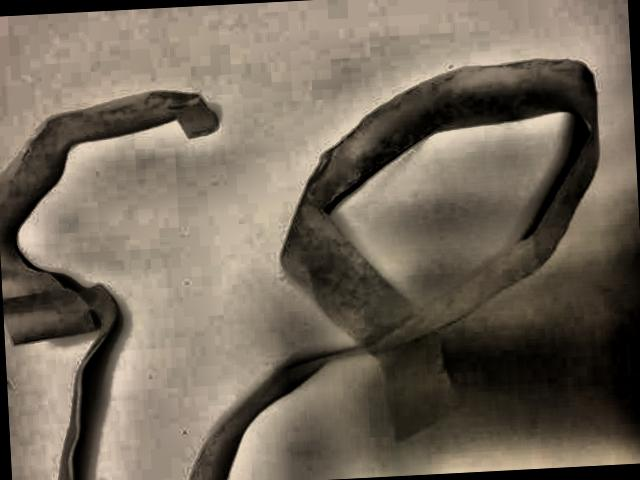Paper: (162, 49, 639, 480), (0, 79, 234, 480)
